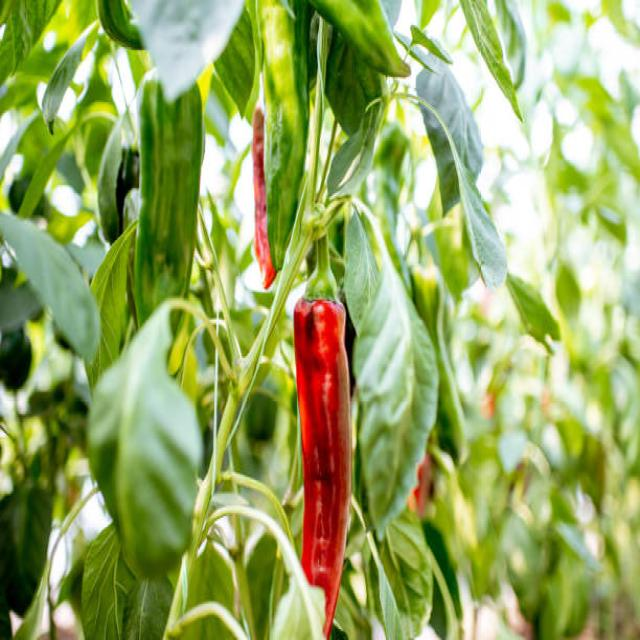Ripe: (292, 237, 357, 610), (250, 102, 278, 298)
Unripe: (130, 85, 207, 320), (258, 9, 310, 267)
